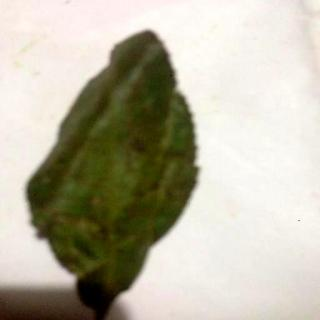Red Leaf Spot: (28, 31, 198, 318)
